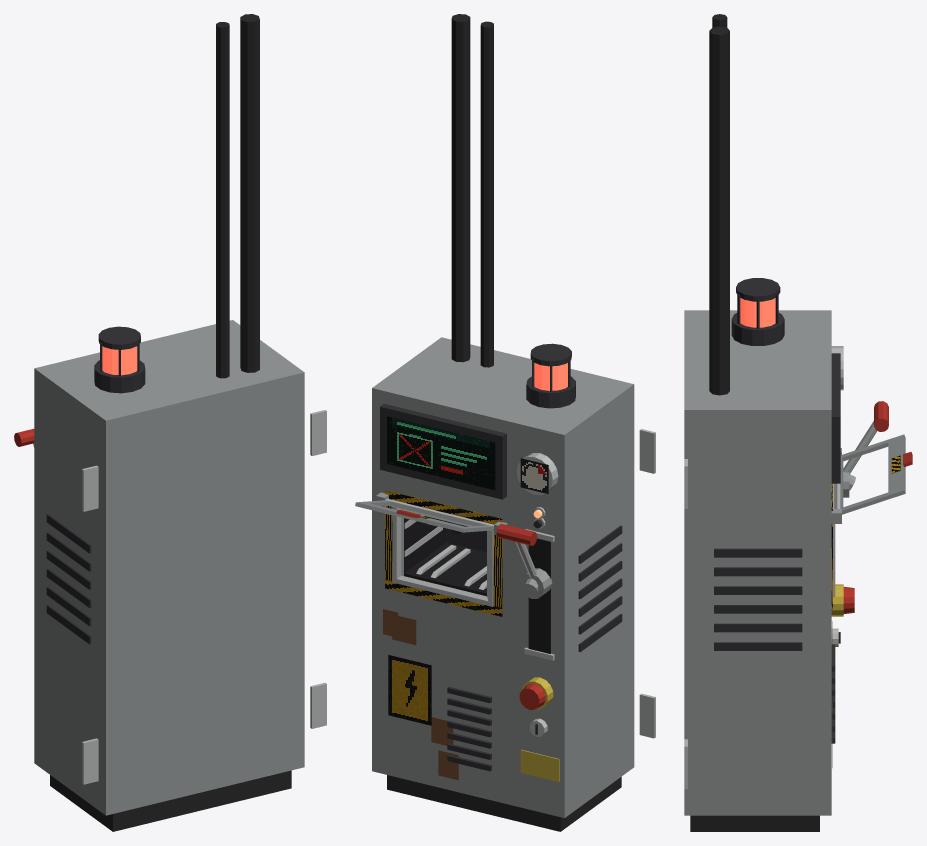
File: control_panel.fbx
The picture shows the model from 3 angles, left to right: view 1: azimuth 30°, elevation 25°; view 2: azimuth 150°, elevation 25°; view 3: azimuth 270°, elevation 25°; orthographic projection. The views are drawn at different scales.
Parts seen in each view (by area): view 1: control_panel; view 2: control_panel, control_panel_clamp, control_panel_lever; view 3: control_panel, control_panel_clamp, control_panel_lever.
Part boxes in pixels (x1,y1,x2,y2): control_panel: (34,14,326,831); control_panel: (372,14,655,831); control_panel_clamp: (355,498,493,532); control_panel_lever: (496,524,538,592); control_panel: (684,14,854,831); control_panel_clamp: (833,434,912,514); control_panel_lever: (843,401,888,490).
Bounding box in the file's own units: 0.98 × 2.95 × 0.7743.
